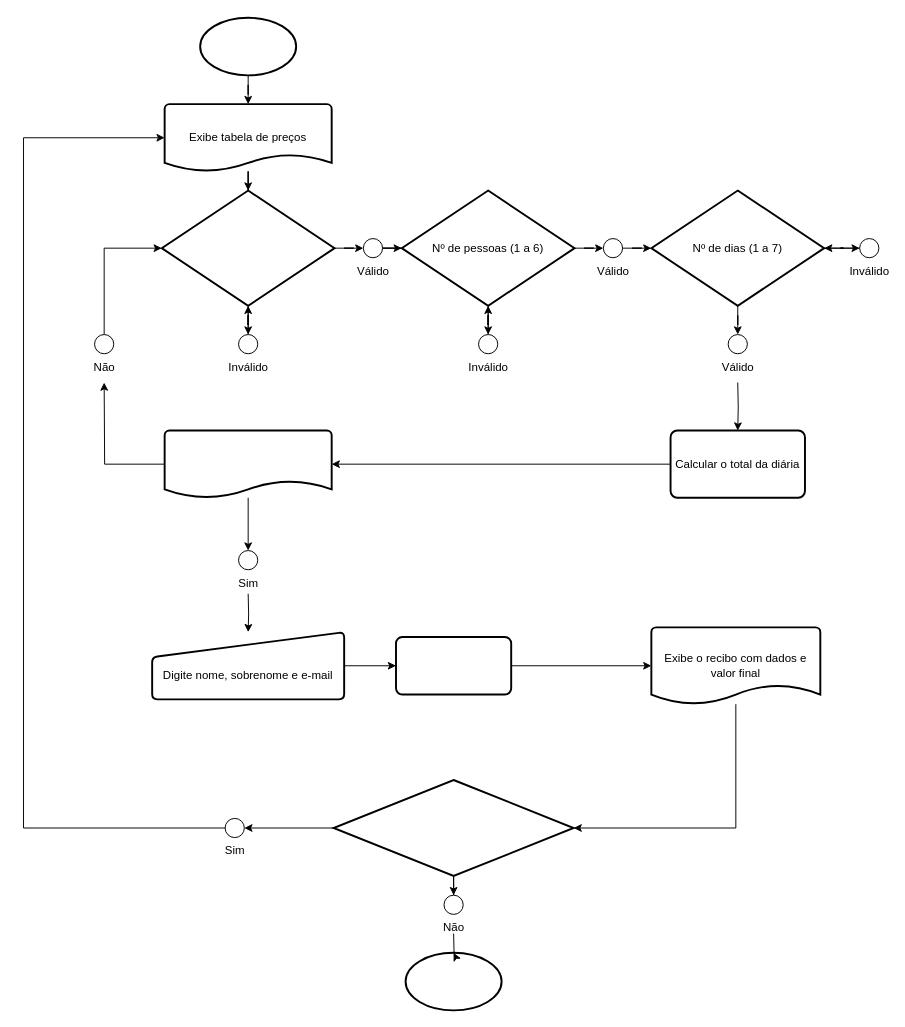
Some shapes in this 905 by 1027 pixel diagram are drawn without their labels. The shapes that lost their labels are listed below. From the top down, each one's centre as x and y in pixels, then its label:
[248,46]: Início
[247,247]: Escolher tipo (1 ou 2)
[247,463]: Confirma?
[453,665]: Gerar recibo
[453,827]: Realizar nova compra?
[453,981]: Fim
